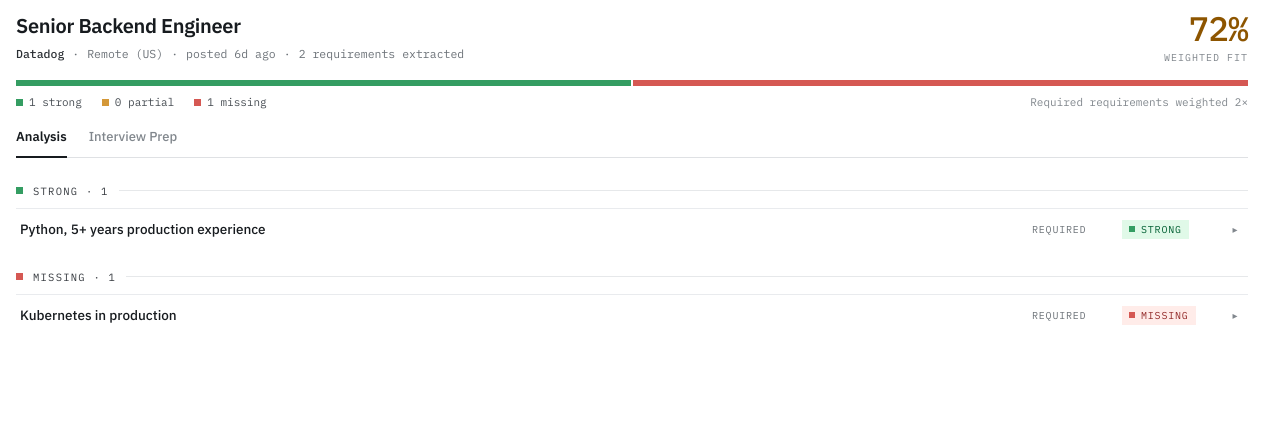
Test case: AnalysisPane › switches to interview preparation without fetching
The width and height of the screenshot is (1266, 430).
Click the tab "Interview Prep" at (133, 142), box [89, 127, 177, 158]
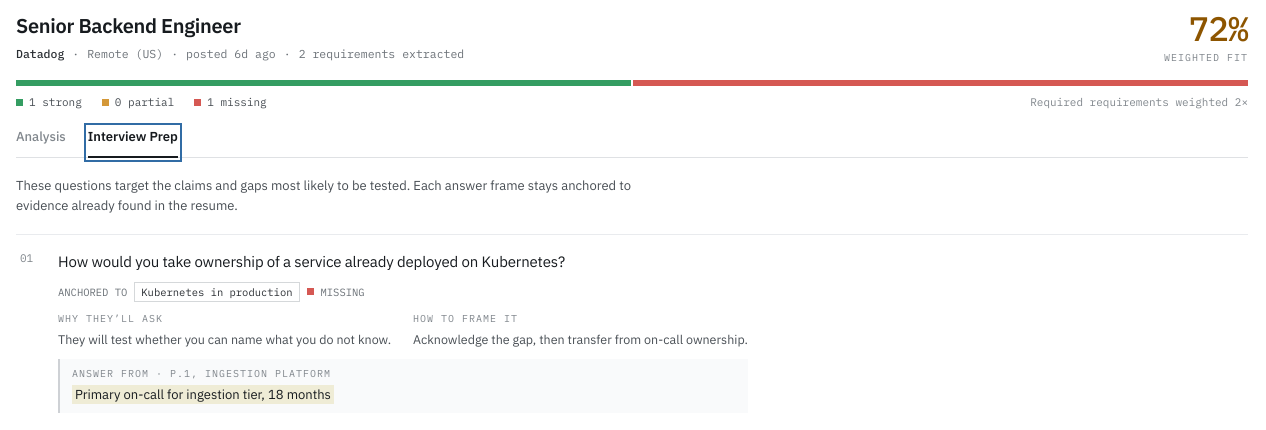
Expected: the heading "How would you take ownership" is shown, [58, 252, 565, 271]
Expected: the text "Anchored to" is shown, [58, 285, 127, 299]
